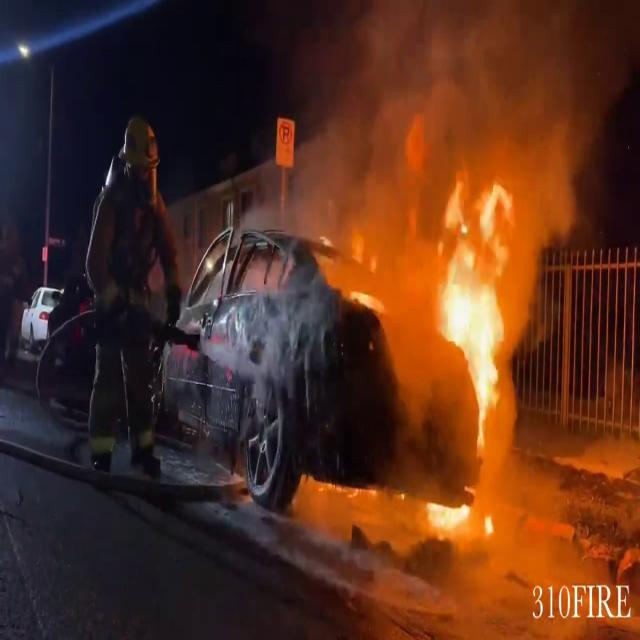Fire: (429, 175, 529, 438)
Smoke: (323, 0, 613, 278)
